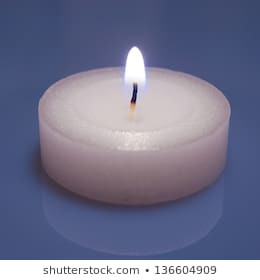Fire: (125, 44, 148, 87)
